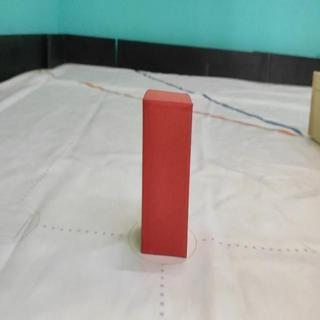redbox: (141, 88, 193, 258), (185, 257, 193, 259)
